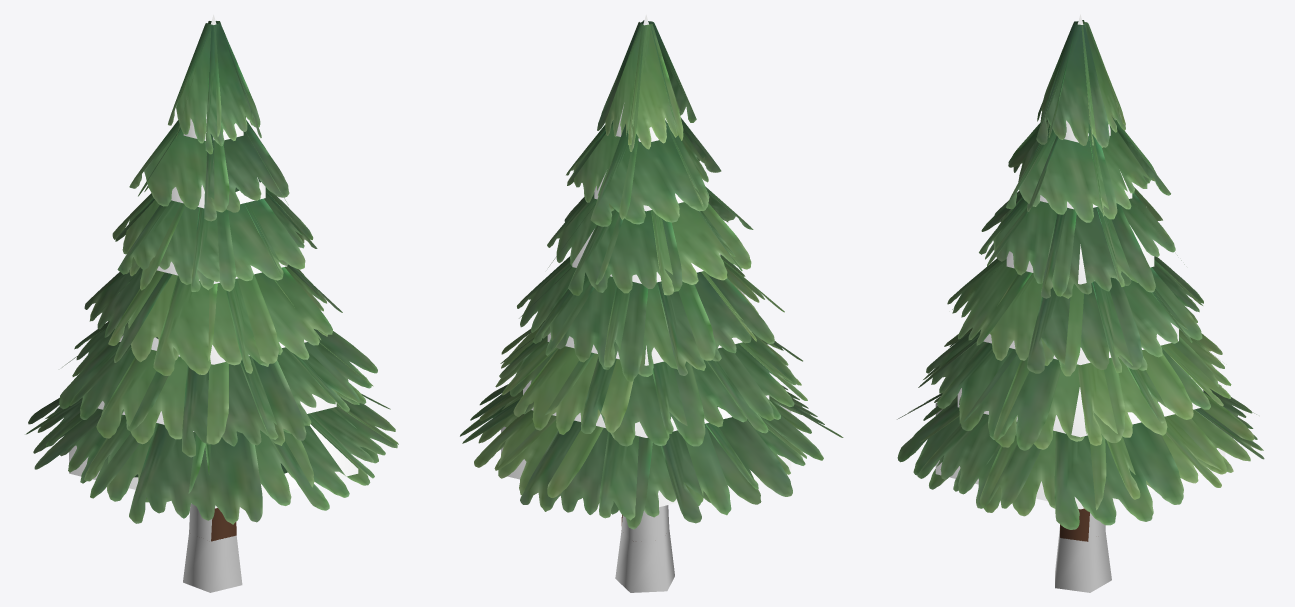
Rendered from conifer-cedar.lod1.glb.
3 views of the same model, side by side, from view 1: azimuth 30°, elevation 25°; view 2: azimuth 150°, elevation 25°; view 3: azimuth 270°, elevation 25° (orthographic).
Parts seen in each view (by area): view 1: Crown, Stem, Hull, Trunk; view 2: Crown, Stem, Hull; view 3: Crown, Stem, Hull, Trunk.
Boxes of the visible parts, <box> form: Crown: <box>25,21,398,524</box>; Stem: <box>183,503,242,592</box>; Hull: <box>69,14,358,508</box>; Trunk: <box>211,508,236,541</box>; Crown: <box>460,20,843,529</box>; Stem: <box>615,505,674,592</box>; Hull: <box>501,14,791,506</box>; Crown: <box>897,20,1264,529</box>; Stem: <box>1055,513,1111,592</box>; Hull: <box>935,14,1225,509</box>; Trunk: <box>1060,508,1089,541</box>.
Bounding box in the file's own units: 2.58 × 3.96 × 2.54.
Materials: 4 (1 with a texture image).
